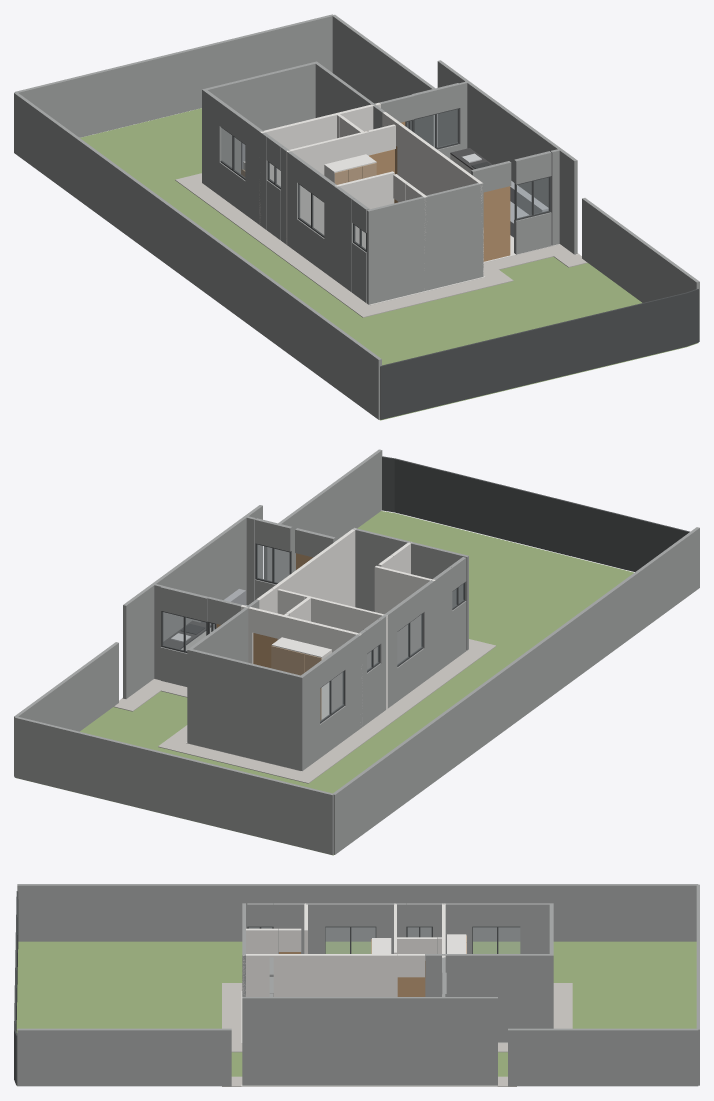
Rendered from casa.glb.
The picture shows the model from 3 angles, top to bottom: view 1: azimuth 30°, elevation 25°; view 2: azimuth 150°, elevation 25°; view 3: azimuth 270°, elevation 25°; orthographic projection. The views are drawn at different scales.
Visible parts, largest first — view 1: fachada, grama, esquadria, parede, concreto, vidro, door3_swing__porta, tecido, armario; view 2: fachada, grama, esquadria, parede, concreto, vidro, armario, madeira, door2_swing__porta; view 3: fachada, grama, parede, vidro, concreto, esquadria, armario, piso, door5_swing__porta.
Boxes of the visible parts, box(x1,y1,x2,y2) form: fachada: box(14, 14, 699, 419); grama: box(80, 108, 697, 420); esquadria: box(220, 108, 698, 419); parede: box(259, 102, 483, 275); concreto: box(175, 173, 587, 317); vidro: box(221, 109, 548, 249); door3_swing__porta: box(483, 186, 510, 261); tecido: box(241, 142, 548, 237); armario: box(324, 154, 471, 182); fachada: box(14, 449, 699, 855); grama: box(16, 511, 633, 855); esquadria: box(161, 456, 689, 723); parede: box(240, 528, 435, 722); concreto: box(114, 639, 495, 783); vidro: box(163, 545, 463, 721); armario: box(181, 627, 331, 719); madeira: box(271, 646, 321, 720); door2_swing__porta: box(253, 633, 277, 667); fachada: box(17, 884, 699, 1086); grama: box(16, 941, 696, 1076); parede: box(242, 903, 445, 996); vidro: box(249, 927, 519, 953); concreto: box(222, 983, 572, 1086); esquadria: box(14, 891, 519, 1085); armario: box(372, 934, 466, 953); piso: box(241, 991, 507, 1086); door5_swing__porta: box(397, 977, 424, 996).
Bounding box in the file's own units: 10.07 × 2.83 × 19.98.
